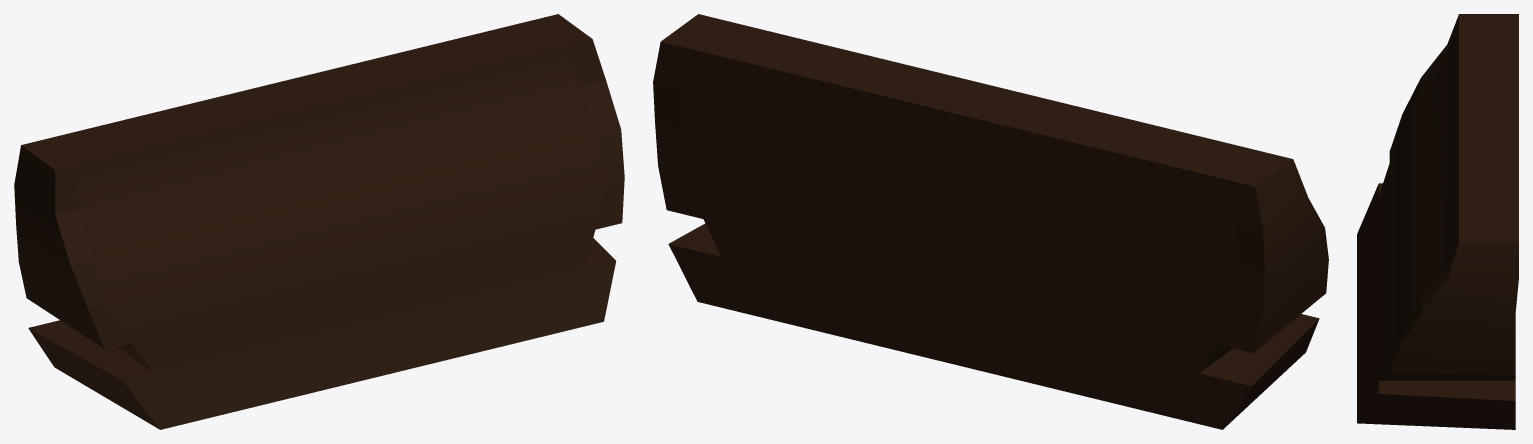
Rendered from Sideburns.fbx.
3 renders of one model, left to right at view 1: azimuth 30°, elevation 25°; view 2: azimuth 150°, elevation 25°; view 3: azimuth 270°, elevation 25°, orthographic. The views are drawn at different scales.
Parts seen in each view (by area): view 1: Sideburns; view 2: Sideburns; view 3: Sideburns.
Boxes of the visible parts, x1,y1,x2,y2 form: Sideburns: [14, 14, 624, 429]; Sideburns: [653, 14, 1328, 429]; Sideburns: [1357, 14, 1518, 429].
Bounding box in the file's own units: 37.78 × 14.98 × 10.98.
